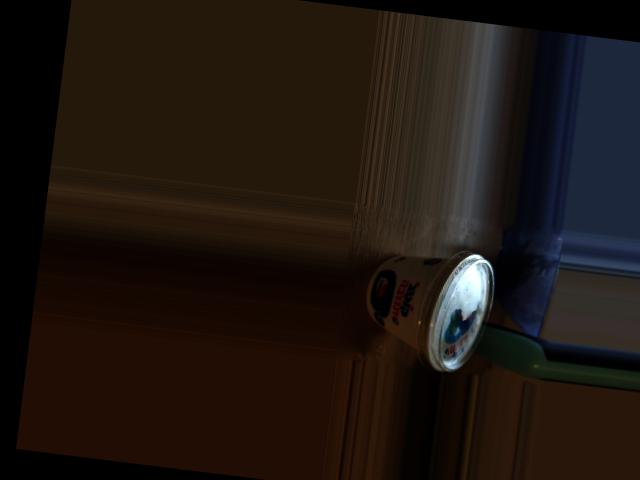cotage: (369, 248, 497, 363)
